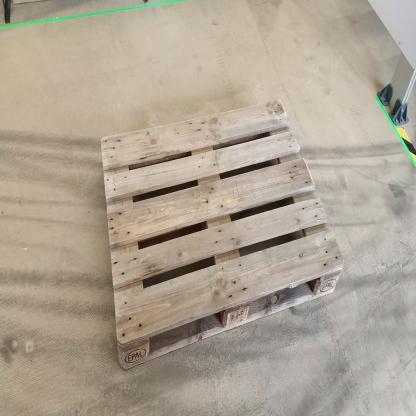BoxFace: (96, 87, 350, 377)
